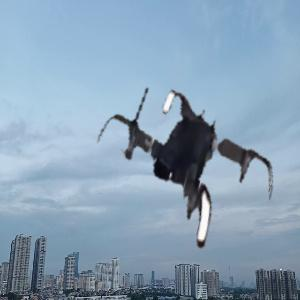drone: (84, 77, 280, 273)
